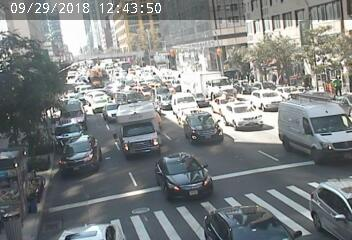car: (119, 108, 169, 164), (156, 151, 211, 200), (292, 107, 349, 154), (211, 206, 263, 240), (66, 141, 105, 179), (184, 109, 217, 142), (61, 102, 92, 125), (225, 104, 258, 125), (56, 123, 85, 141), (254, 89, 282, 105), (149, 89, 172, 108), (206, 76, 235, 91), (171, 95, 198, 110), (211, 96, 236, 109), (88, 69, 107, 81), (103, 104, 118, 119), (85, 91, 106, 100), (90, 99, 104, 108)
